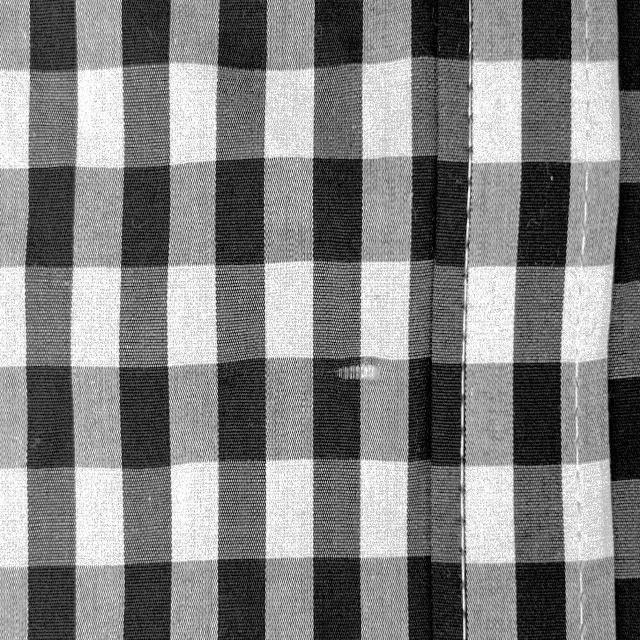Foreign_yarn: (330, 351, 390, 391)
